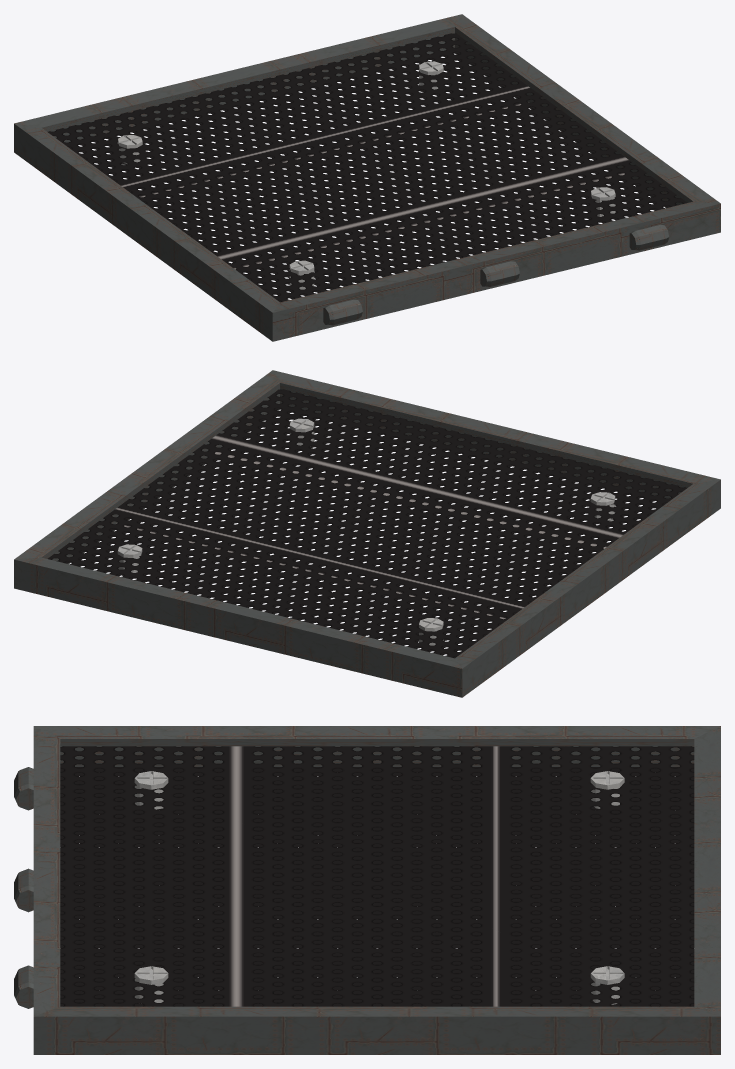
Rendered from Vents_sol_plafond_grid.fbx.
The picture shows the model from 3 angles, top to bottom: view 1: azimuth 30°, elevation 25°; view 2: azimuth 150°, elevation 25°; view 3: azimuth 270°, elevation 25°; orthographic projection. The views are drawn at different scales.
Visible parts, largest first — view 1: Vent_sol_plafond_grid; view 2: Vent_sol_plafond_grid; view 3: Vent_sol_plafond_grid.
Part boxes in pixels (x1,y1,x2,y2): Vent_sol_plafond_grid: [14, 14, 720, 341]; Vent_sol_plafond_grid: [14, 370, 720, 697]; Vent_sol_plafond_grid: [14, 726, 720, 1054].
Bounding box in the file's own units: 2 × 0.1234 × 2.06.
Materials: 3 (3 with a texture image).
